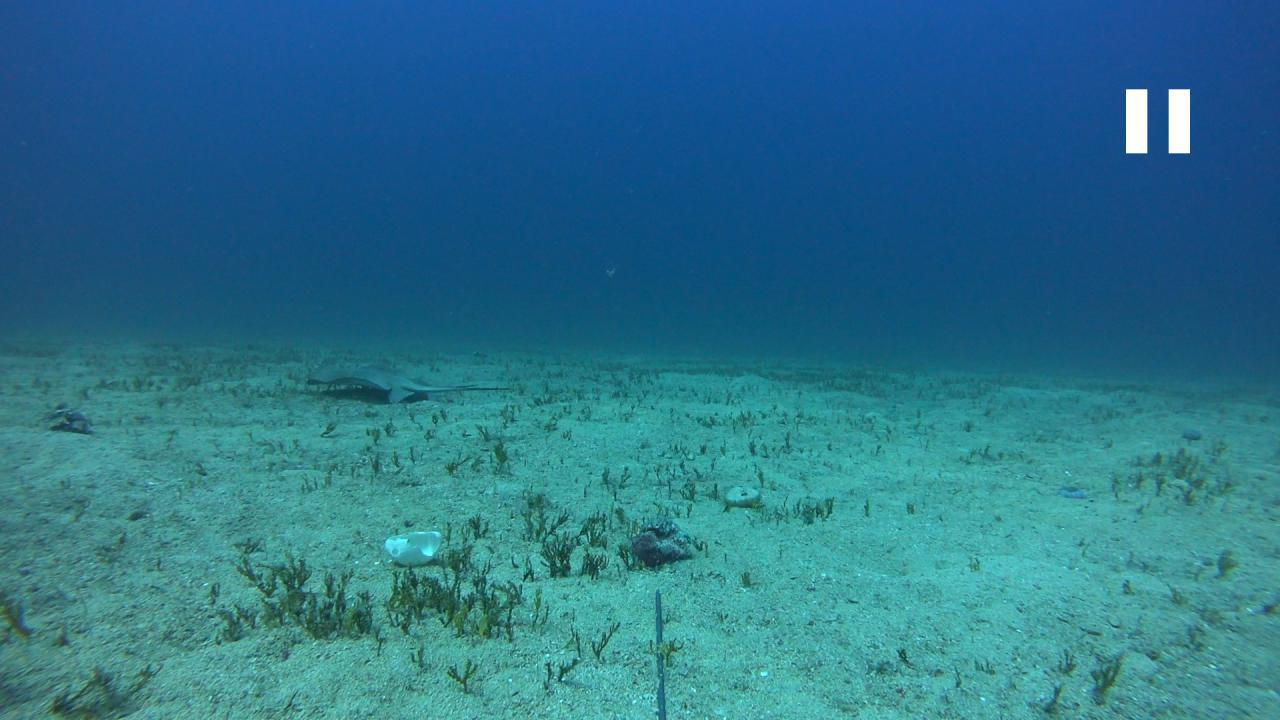dasyatis: (302, 364, 508, 402)
